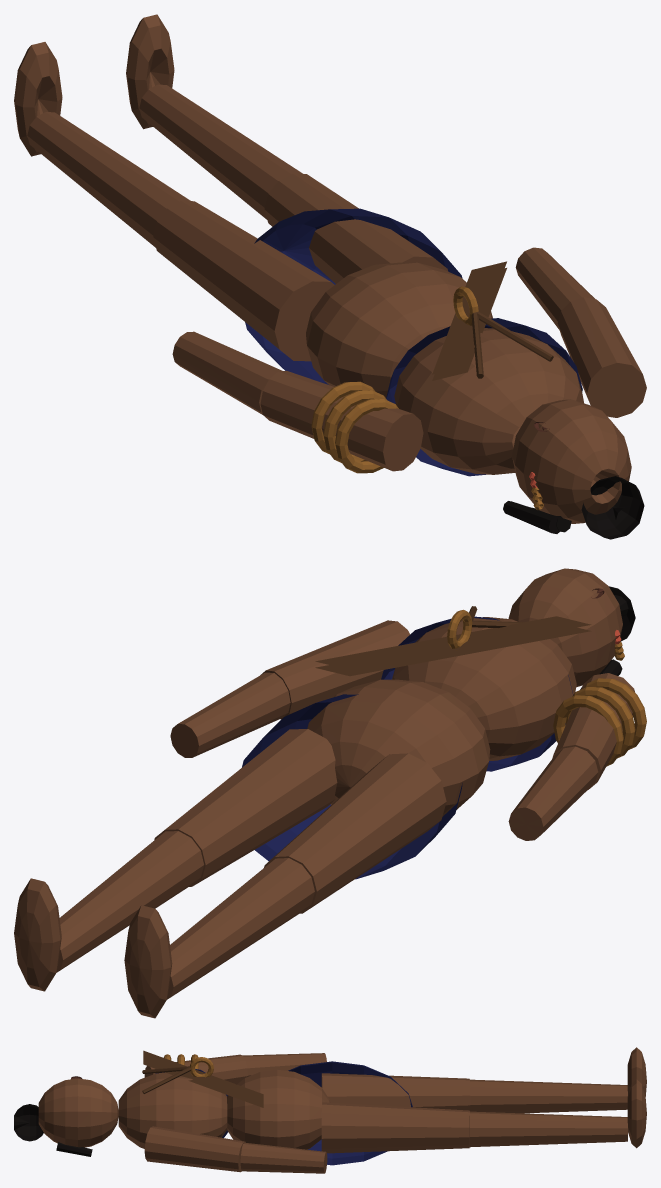
The model's file is ADANNA_AD03_V1.obj.
3 views of the same model, one above another, from view 1: azimuth 30°, elevation 25°; view 2: azimuth 150°, elevation 25°; view 3: azimuth 270°, elevation 25° (orthographic). The views are drawn at different scales.
Visible parts, largest first — view 1: neck_torso_upper, pelvis_lower, thigh.L, shin_foot.L, shin_foot.R, head, thigh.R, upperarm.L, upperarm.R, skirt_wrap_indigo, forearm_hand.L, baldric_L_to_R (+8 smaller); view 2: pelvis_lower, shin_foot.L, thigh.R, shin_foot.R, thigh.L, neck_torso_upper, head, baldric_L_to_R, forearm_hand.R, upperarm.R, forearm_hand.L, skirt_wrap_indigo (+6 smaller); view 3: thigh.R, pelvis_lower, shin_foot.R, neck_torso_upper, shin_foot.L, thigh.L, head, upperarm.R, forearm_hand.R, skirt_wrap_indigo, baldric_L_to_R, forearm_hand.L (+5 smaller).
Boxes of the visible parts, left/top/right/bottom form: neck_torso_upper: left=394, top=328, right=583, bottom=474; pelvis_lower: left=306, top=262, right=492, bottom=397; thigh.L: left=153, top=201, right=334, bottom=361; shin_foot.L: left=14, top=42, right=190, bottom=247; shin_foot.R: left=126, top=14, right=302, bottom=219; head: left=512, top=399, right=631, bottom=523; thigh.R: left=264, top=173, right=448, bottom=283; upperarm.L: left=260, top=370, right=423, bottom=471; upperarm.R: left=557, top=297, right=646, bottom=417; skirt_wrap_indigo: left=245, top=208, right=462, bottom=384; forearm_hand.L: left=172, top=331, right=282, bottom=414; baldric_L_to_R: left=432, top=261, right=506, bottom=380; pelvis_lower: left=307, top=679, right=490, bottom=816; shin_foot.L: left=124, top=858, right=314, bottom=1018; thigh.R: left=154, top=729, right=337, bottom=886; shin_foot.R: left=14, top=831, right=203, bottom=991; thigh.L: left=264, top=753, right=446, bottom=913; neck_torso_upper: left=392, top=617, right=576, bottom=760; head: left=508, top=568, right=622, bottom=687; baldric_L_to_R: left=315, top=616, right=591, bottom=676; forearm_hand.R: left=170, top=672, right=290, bottom=757; upperarm.R: left=261, top=620, right=409, bottom=719; forearm_hand.L: left=508, top=746, right=598, bottom=840; skirt_wrap_indigo: left=242, top=694, right=462, bottom=879; thigh.R: left=321, top=1102, right=470, bottom=1153; pelvis_lower: left=227, top=1069, right=330, bottom=1149; shin_foot.R: left=470, top=1079, right=646, bottom=1148; neck_torso_upper: left=118, top=1072, right=227, bottom=1148; shin_foot.L: left=470, top=1047, right=646, bottom=1113; thigh.L: left=321, top=1073, right=470, bottom=1110; head: left=38, top=1078, right=118, bottom=1147; upperarm.R: left=144, top=1126, right=245, bottom=1172; forearm_hand.R: left=240, top=1143, right=327, bottom=1173; skirt_wrap_indigo: left=288, top=1061, right=412, bottom=1165; baldric_L_to_R: left=143, top=1050, right=263, bottom=1107; forearm_hand.L: left=242, top=1053, right=326, bottom=1076.
Size of the model in its own units: 0.7432 by 0.326 by 1.84.
